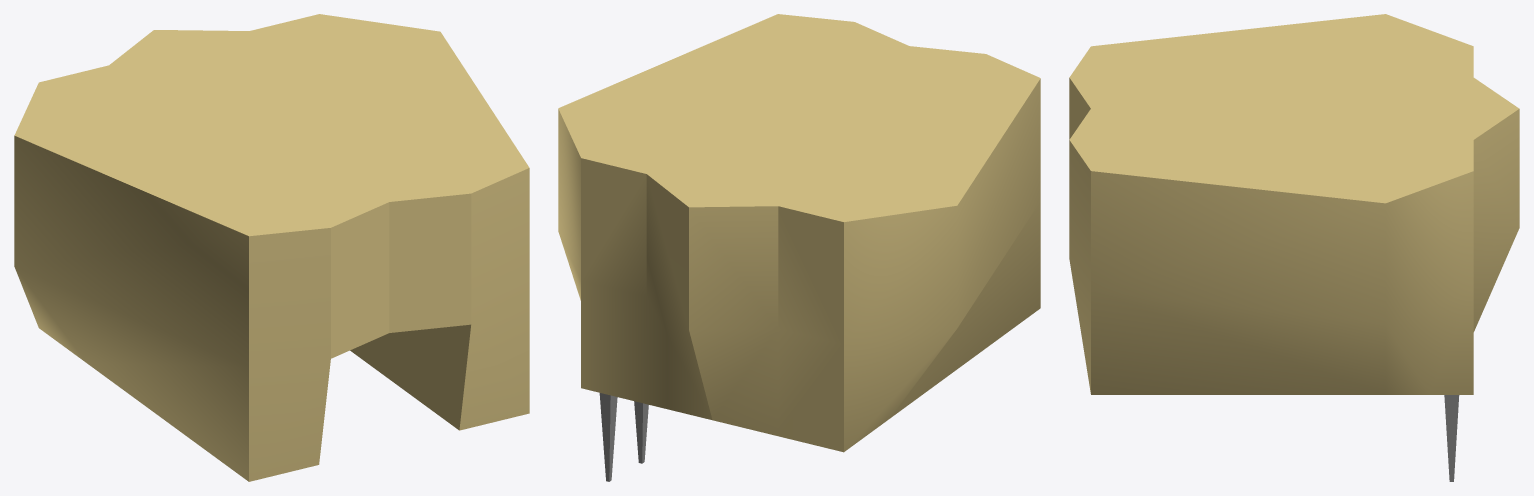
The model's file is droneTurret.fbx.
3 views of the same model, side by side, from view 1: azimuth 30°, elevation 25°; view 2: azimuth 150°, elevation 25°; view 3: azimuth 270°, elevation 25° (orthographic). The views are drawn at different scales.
Parts seen in each view (by area): view 1: Turret01:polySurface1; view 2: Turret01:polySurface1; view 3: Turret01:polySurface1.
Boxes of the visible parts, left/top/right/bottom form: Turret01:polySurface1: left=14, top=14, right=529, bottom=481; Turret01:polySurface1: left=558, top=14, right=1040, bottom=481; Turret01:polySurface1: left=1069, top=14, right=1519, bottom=481.
Size of the model in its own units: 1.21 by 0.9466 by 1.21.
